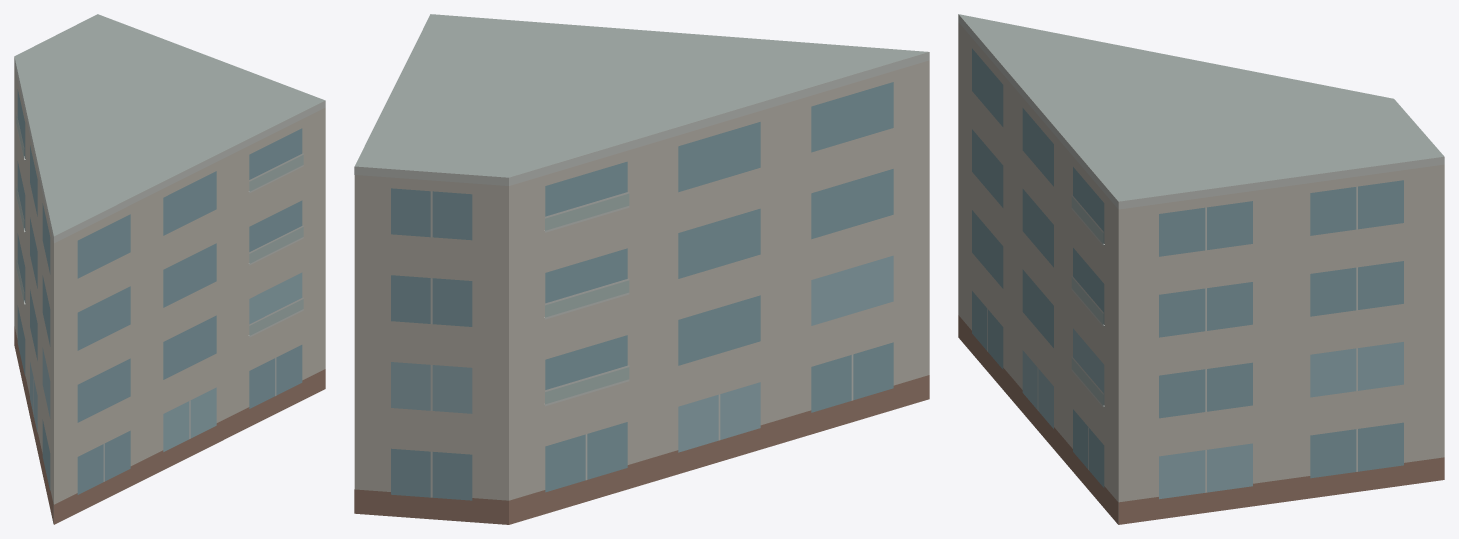
Rendered from survey-upis-32969502.glb.
3 views of the same model, side by side, from view 1: azimuth 30°, elevation 25°; view 2: azimuth 150°, elevation 25°; view 3: azimuth 270°, elevation 25° (orthographic). The views are drawn at different scales.
Visible parts, largest first — view 1: survey-upis-32969502.tmp; view 2: survey-upis-32969502.tmp; view 3: survey-upis-32969502.tmp.
Boxes of the visible parts, x1=… form: survey-upis-32969502.tmp: x1=14, y1=14, x2=325, y2=524; survey-upis-32969502.tmp: x1=354, y1=14, x2=929, y2=524; survey-upis-32969502.tmp: x1=958, y1=14, x2=1444, y2=524.
Bounding box in the file's own units: 12.54 × 10.06 × 13.73.
